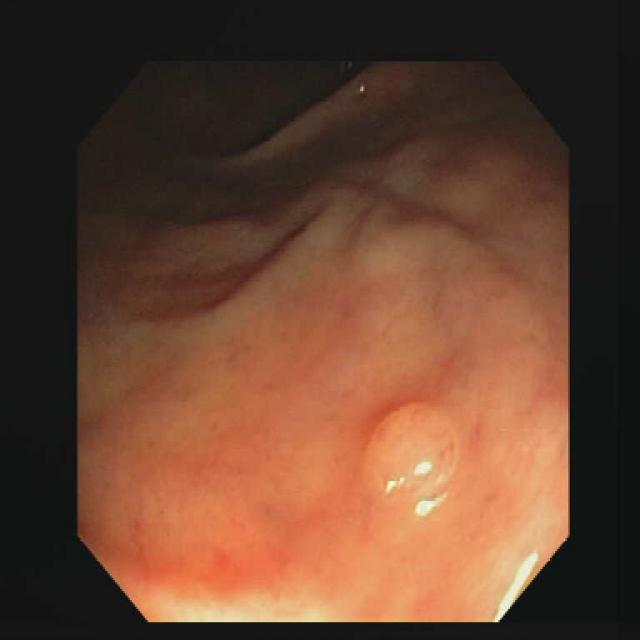tumor: (368, 404, 460, 496)
